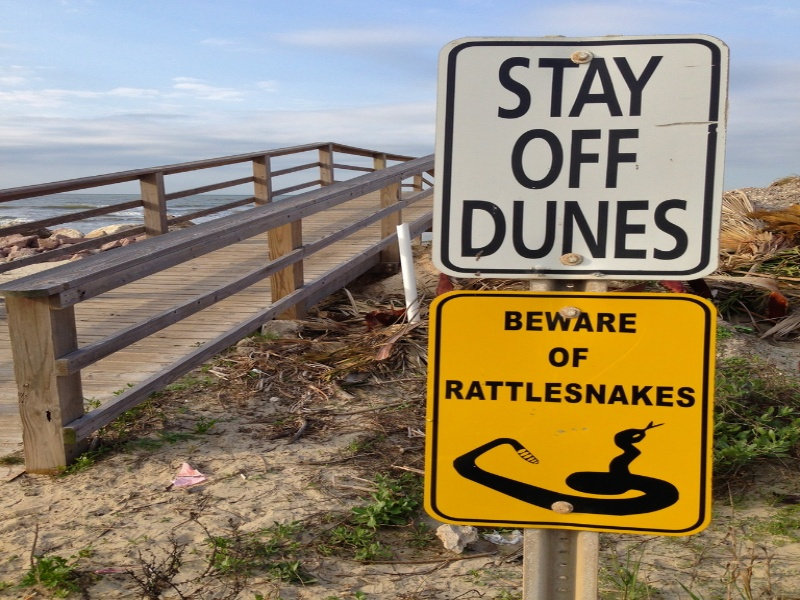animal_ahead: (432, 294, 702, 532)
stay_off_dunes: (444, 39, 704, 271)
